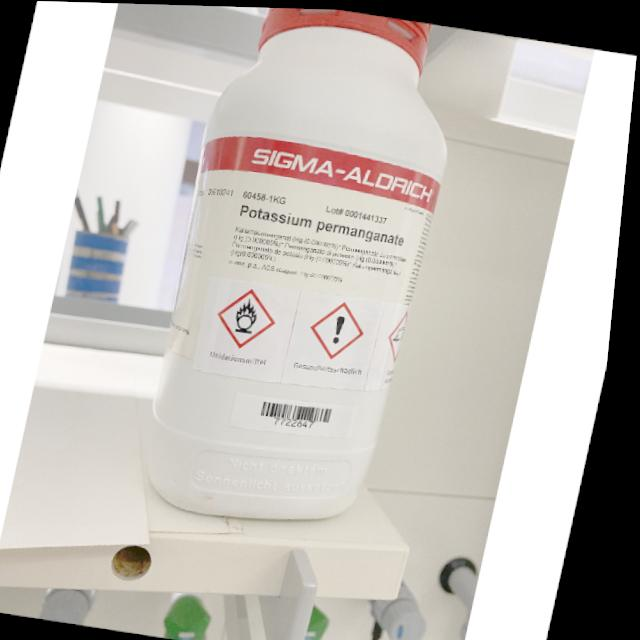health-ozone layer hazard: (338, 313, 351, 342)
oxidising: (238, 294, 266, 332)
